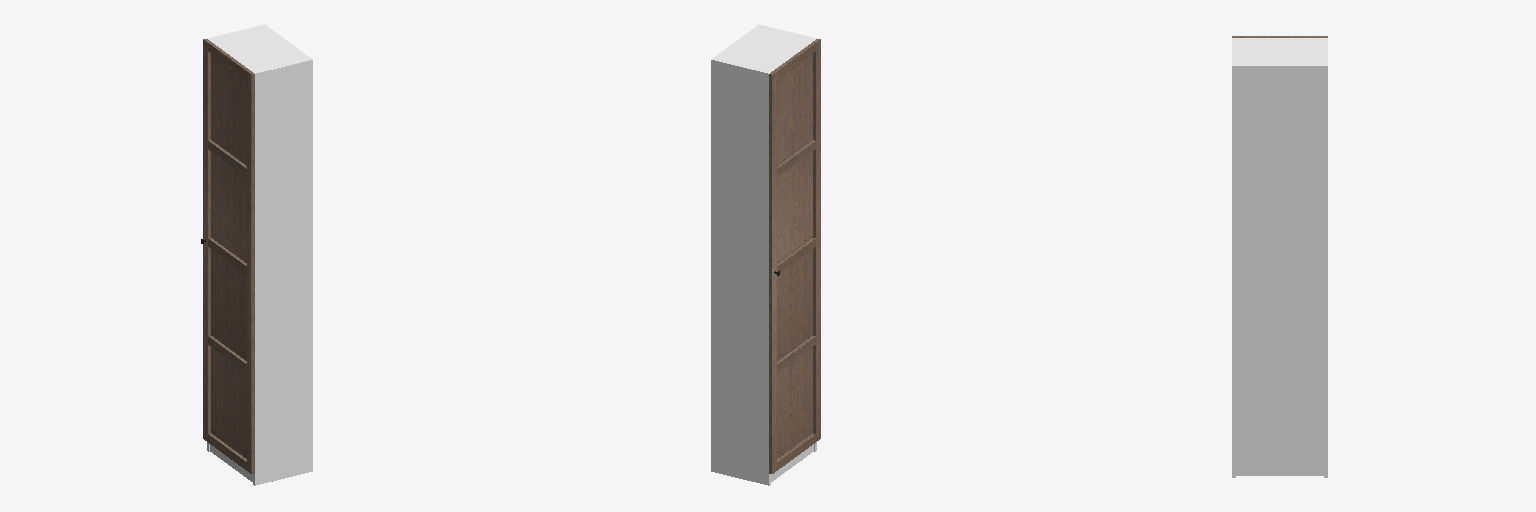
3 views of the same model, side by side, from view 1: azimuth 30°, elevation 25°; view 2: azimuth 150°, elevation 25°; view 3: azimuth 270°, elevation 25° (orthographic).
Visible parts, largest first — view 1: Mesh2 Group2 Model, Mesh10 Group9 PaxDOOR1 Model, Mesh17 Group16 PaxDOOR1 Model, Mesh12 Group11 PaxDOOR1 Model, Mesh7 Group6 PaxDOOR1 Model, Mesh8 Group7 PaxDOOR1 Model, Mesh9 Group8 PaxDOOR1 Model, Mesh4 Group4 Model; view 2: Mesh3 Group3 Model, Mesh9 Group8 PaxDOOR1 Model, Mesh17 Group16 PaxDOOR1 Model, Mesh12 Group11 PaxDOOR1 Model, Mesh7 Group6 PaxDOOR1 Model, Mesh8 Group7 PaxDOOR1 Model, Mesh10 Group9 PaxDOOR1 Model, Mesh4 Group4 Model; view 3: Mesh5 Group5 Model, Mesh4 Group4 Model, Mesh2 Group2 Model, Mesh3 Group3 Model.
Boxes of the visible parts, x1=… form: Mesh2 Group2 Model: x1=253, y1=58, x2=312, y2=485; Mesh10 Group9 PaxDOOR1 Model: x1=247, y1=70, x2=254, y2=473; Mesh17 Group16 PaxDOOR1 Model: x1=211, y1=249, x2=246, y2=360; Mesh12 Group11 PaxDOOR1 Model: x1=211, y1=347, x2=246, y2=458; Mesh7 Group6 PaxDOOR1 Model: x1=211, y1=54, x2=246, y2=165; Mesh8 Group7 PaxDOOR1 Model: x1=211, y1=152, x2=246, y2=262; Mesh9 Group8 PaxDOOR1 Model: x1=203, y1=39, x2=210, y2=441; Mesh4 Group4 Model: x1=209, y1=26, x2=309, y2=71; Mesh3 Group3 Model: x1=711, y1=58, x2=770, y2=485; Mesh9 Group8 PaxDOOR1 Model: x1=769, y1=70, x2=776, y2=473; Mesh17 Group16 PaxDOOR1 Model: x1=777, y1=249, x2=812, y2=360; Mesh12 Group11 PaxDOOR1 Model: x1=777, y1=347, x2=812, y2=458; Mesh7 Group6 PaxDOOR1 Model: x1=777, y1=54, x2=812, y2=165; Mesh8 Group7 PaxDOOR1 Model: x1=777, y1=152, x2=812, y2=262; Mesh10 Group9 PaxDOOR1 Model: x1=813, y1=39, x2=820, y2=441; Mesh4 Group4 Model: x1=714, y1=26, x2=814, y2=71; Mesh5 Group5 Model: x1=1236, y1=66, x2=1323, y2=475; Mesh4 Group4 Model: x1=1236, y1=38, x2=1323, y2=65; Mesh2 Group2 Model: x1=1232, y1=38, x2=1235, y2=477; Mesh3 Group3 Model: x1=1324, y1=38, x2=1327, y2=477.
Bounding box in the file's own units: 0.3973 × 2.36 × 0.5.
Materials: 4 (3 with a texture image).